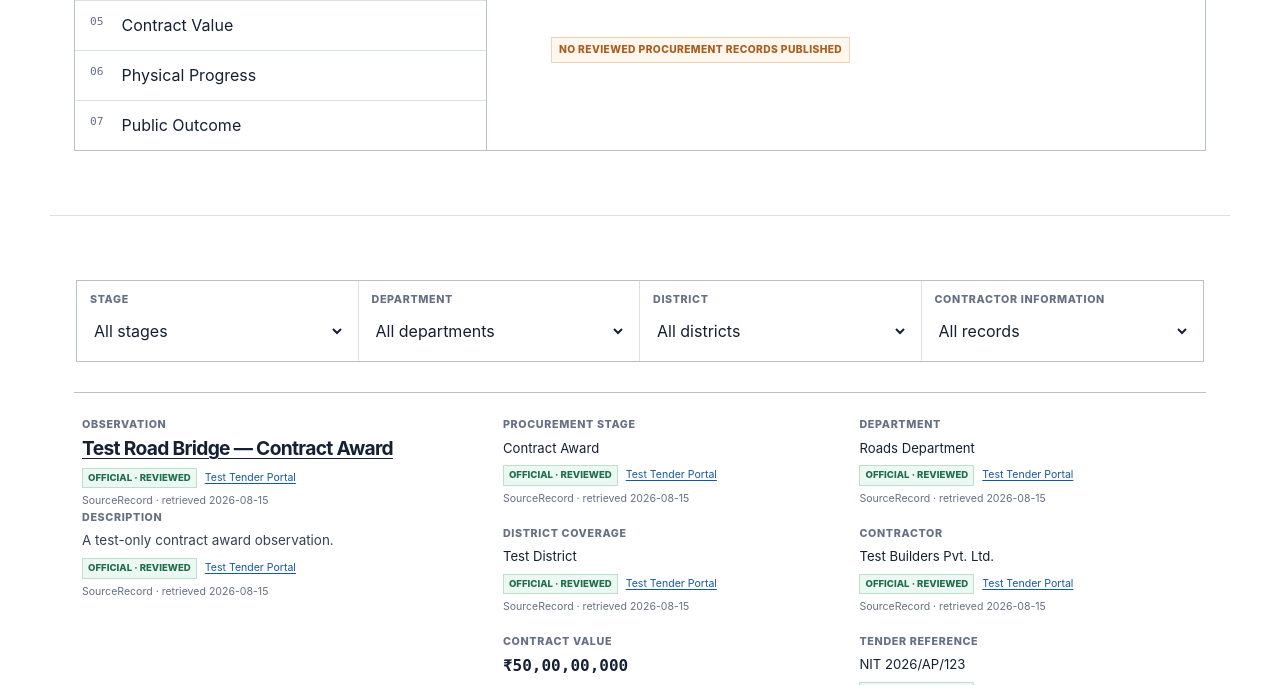
Test case: ProcurementDirectory › renders bilingual claims, contract values and all native filters
(page scrolled)
expect the heading "Test Road Bridge — Contract Award" is shown: met, box [82, 436, 393, 460]
expect the text "₹50,00,00,000" is shown: met, box [503, 656, 628, 675]
Select "Contract Award" in the dropdown labelled "Stage" at x=217, y=332, box [90, 312, 344, 350]
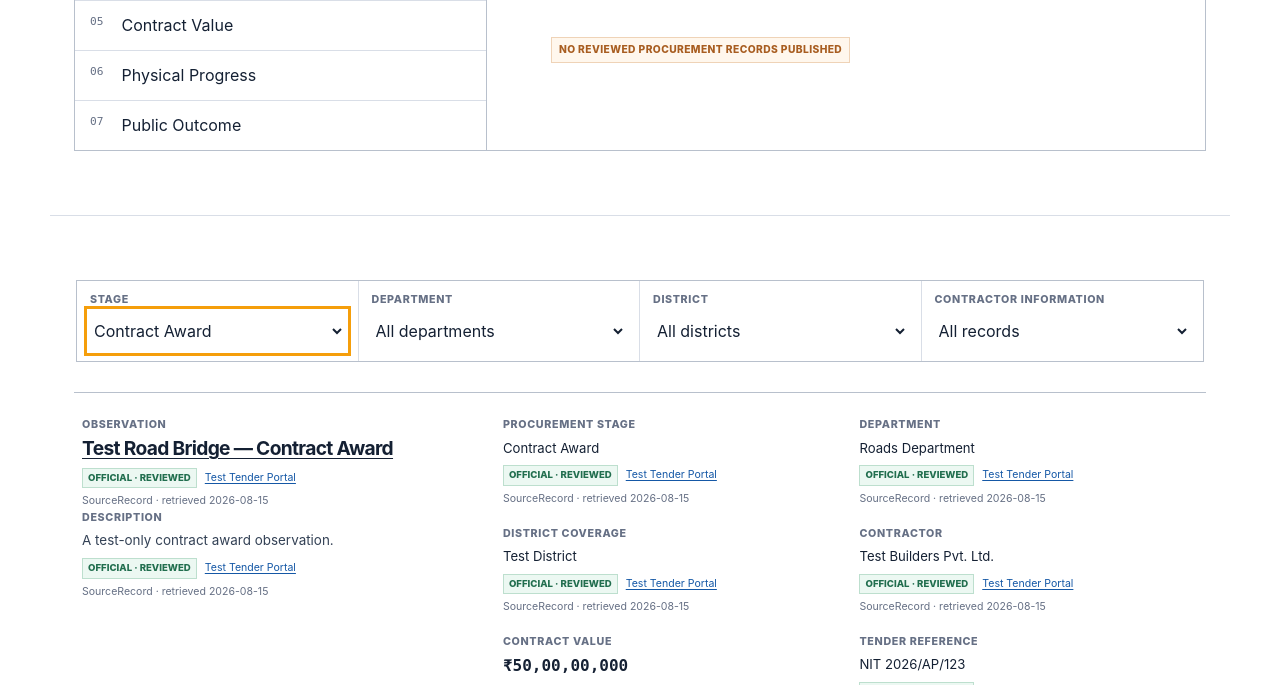
Select "Roads Department" in the dropdown labelled "Department" at x=499, y=332, box [372, 312, 626, 350]
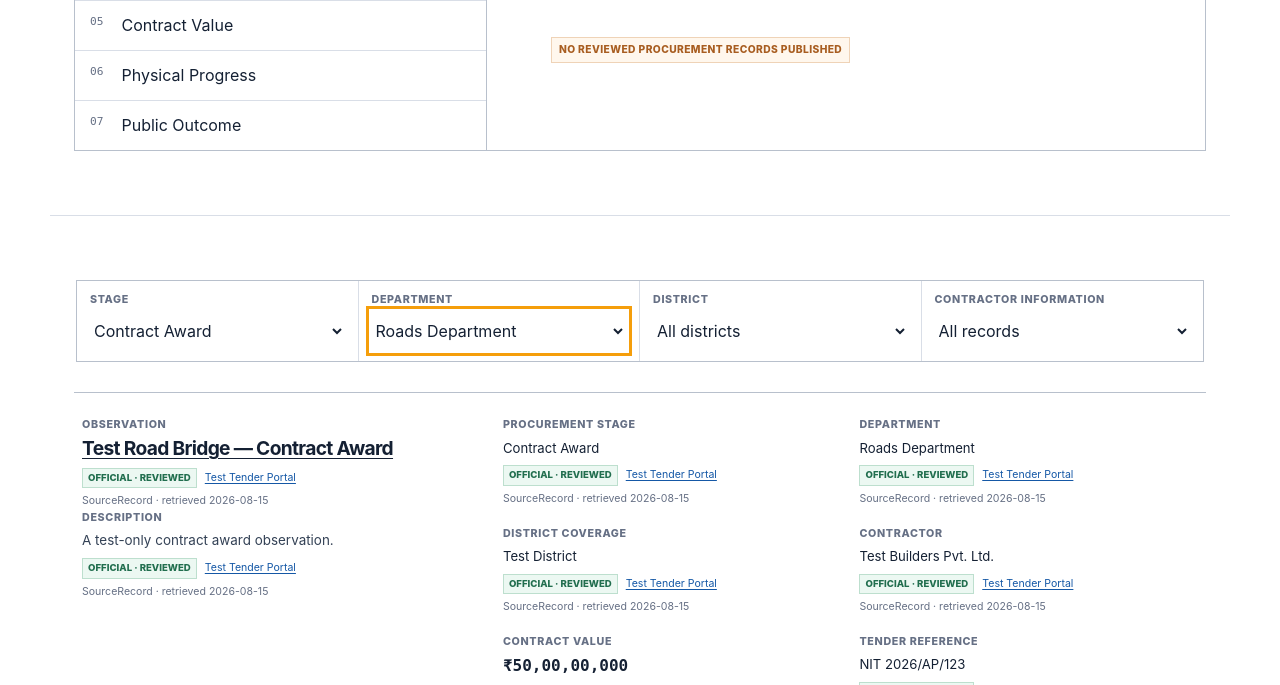
Select "Test District" in the dropdown labelled "District" at x=780, y=332, box [653, 312, 908, 350]
(page scrolled)
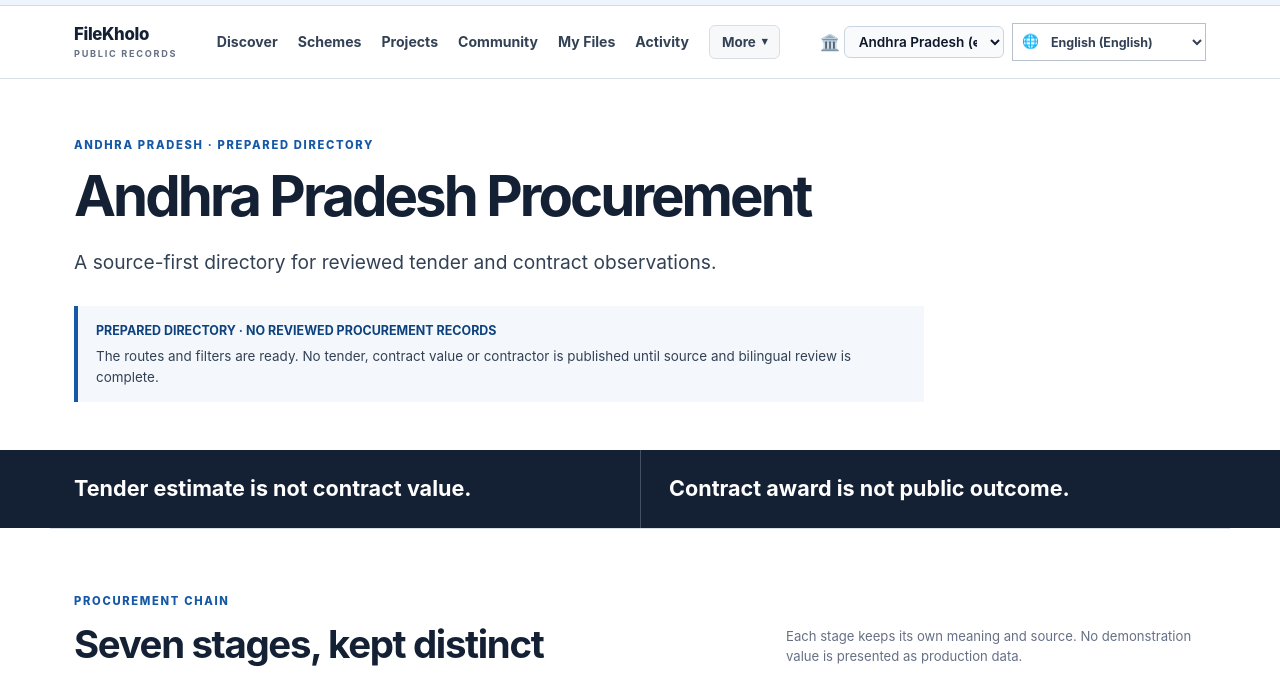
Select "తెలుగు (Telugu)" in the dropdown named "Select language" at x=1122, y=42, box [1039, 24, 1205, 60]
(page scrolled)
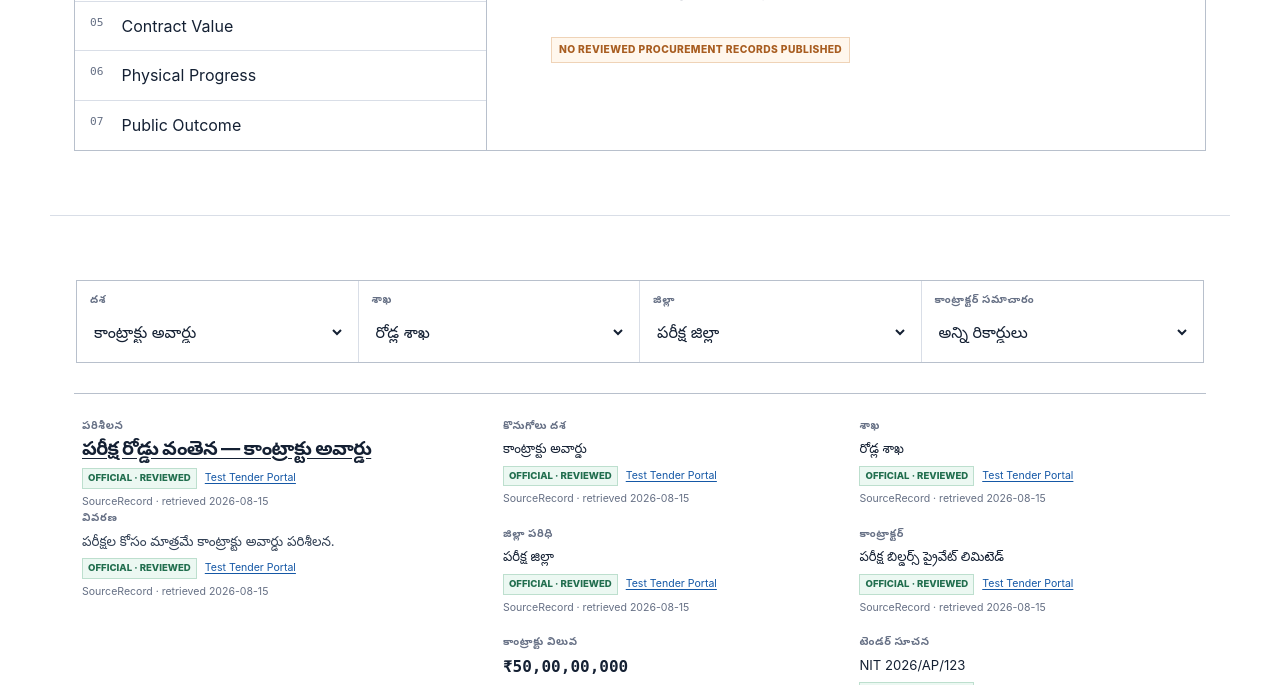
expect the heading "పరీక్ష రోడ్డు వంతెన — కాంట్రాక్టు అవార్డు" is shown: met, box [82, 436, 371, 460]
